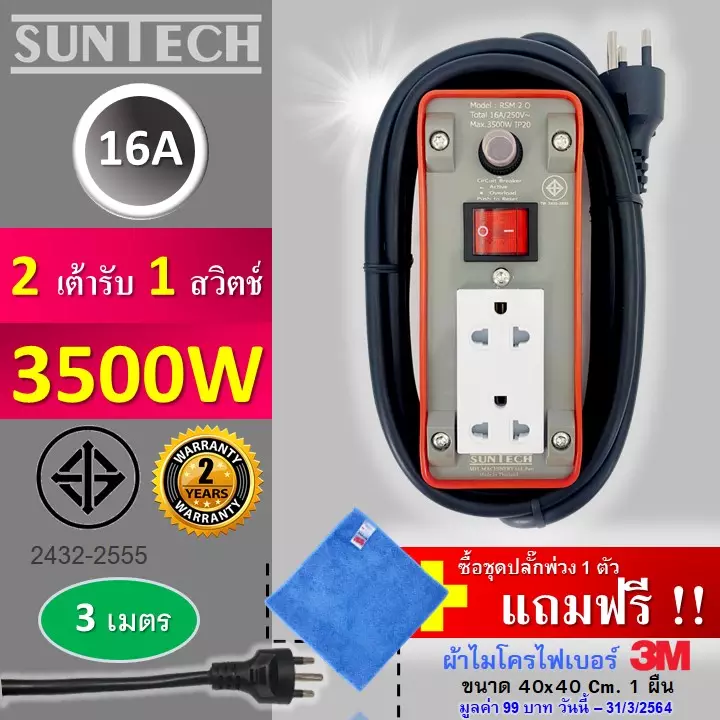Three_eye_plug: (407, 80, 585, 494)
